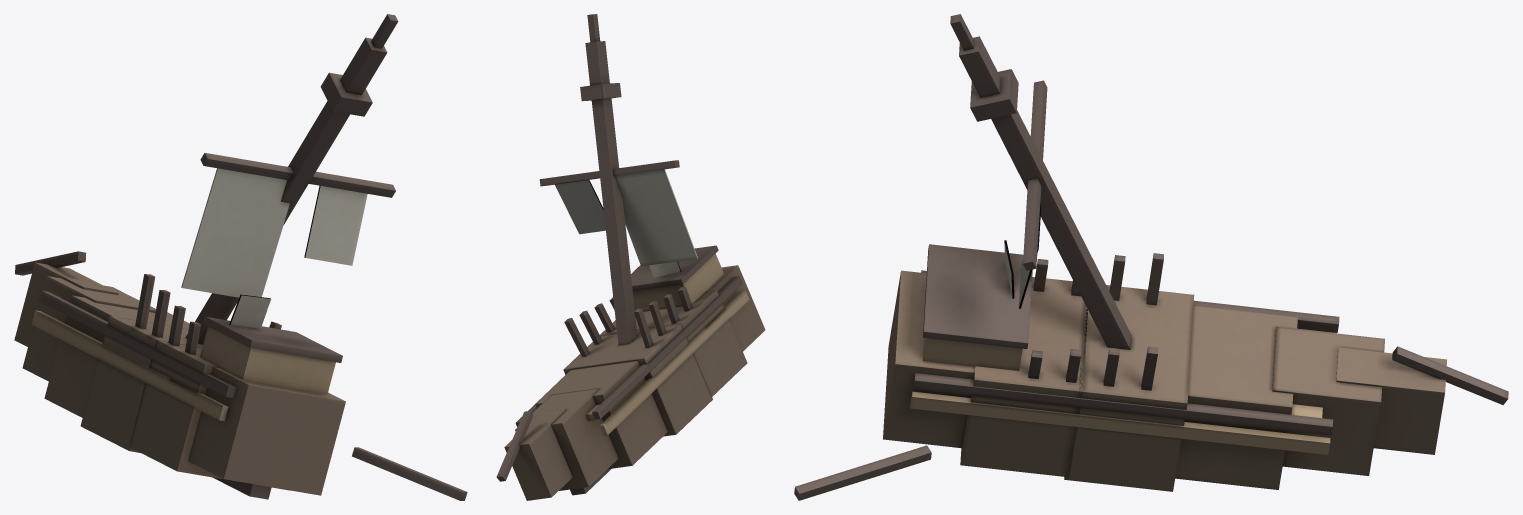
Rendered from shipwreck.glb.
3 views of the same model, side by side, from view 1: azimuth 30°, elevation 25°; view 2: azimuth 150°, elevation 25°; view 3: azimuth 270°, elevation 25° (orthographic). The views are drawn at different scales.
Parts seen in each view (by area): view 1: shipwreck; view 2: shipwreck; view 3: shipwreck.
Boxes of the visible parts, box(x1,y1,x2,y2) form: shipwreck: box(14, 14, 467, 500); shipwreck: box(496, 14, 765, 500); shipwreck: box(794, 14, 1508, 500).
Size of the model in its own units: 15.06 by 27.97 by 33.93.
Materials: 4 (4 with a texture image).
